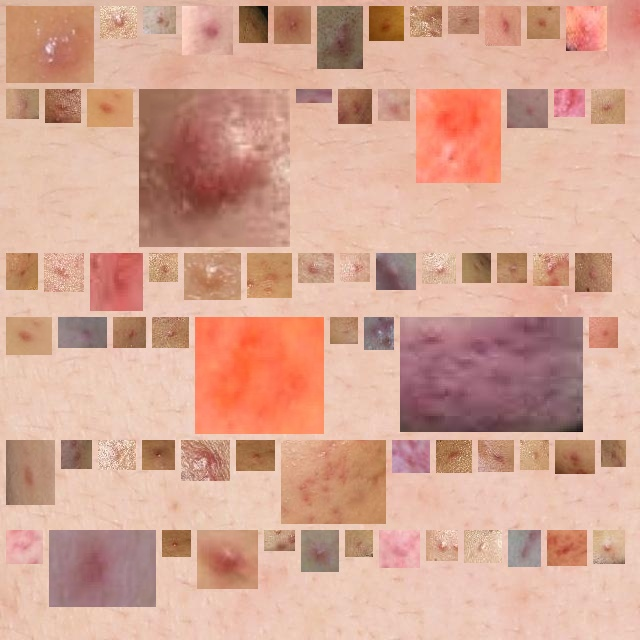papule: (147, 97, 282, 239), (408, 325, 575, 424), (203, 325, 316, 426), (289, 448, 378, 516), (57, 538, 148, 599), (424, 97, 493, 176), (14, 14, 86, 75), (205, 538, 250, 581), (14, 448, 47, 497), (98, 261, 135, 303), (325, 14, 355, 61), (192, 261, 233, 292), (190, 14, 225, 47), (255, 261, 284, 290), (189, 448, 222, 473), (574, 14, 599, 43), (95, 97, 125, 119), (14, 325, 44, 347), (515, 97, 540, 120), (309, 538, 331, 564), (52, 261, 76, 284), (387, 538, 412, 560), (384, 261, 408, 282), (66, 325, 99, 340), (583, 261, 604, 284), (493, 14, 513, 38), (555, 538, 579, 558), (282, 14, 303, 36), (563, 448, 587, 466), (14, 538, 35, 556), (400, 448, 422, 465), (472, 538, 494, 555), (377, 14, 396, 33), (53, 97, 73, 115), (108, 14, 129, 31), (516, 538, 533, 559), (244, 448, 267, 463), (346, 97, 364, 116), (599, 97, 617, 116), (541, 261, 561, 278), (444, 448, 464, 465), (14, 261, 30, 282), (486, 448, 506, 464), (160, 325, 181, 340), (106, 448, 128, 462), (535, 14, 552, 31), (601, 538, 617, 556), (306, 261, 326, 275), (247, 14, 260, 35), (430, 261, 448, 276), (386, 97, 402, 113), (121, 325, 138, 340), (418, 14, 434, 29), (434, 538, 450, 553), (14, 97, 31, 111), (372, 325, 386, 342), (150, 448, 167, 462), (151, 14, 168, 26), (505, 261, 519, 275), (597, 325, 610, 340), (69, 448, 84, 461), (348, 261, 362, 274), (470, 261, 483, 275), (528, 448, 541, 462), (456, 14, 471, 26), (562, 97, 577, 109), (157, 261, 170, 274), (170, 538, 183, 549), (338, 325, 350, 336), (353, 538, 365, 549), (609, 448, 618, 459)
